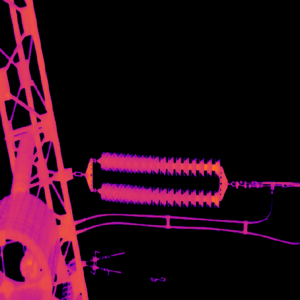insulator: (95, 147, 223, 206)
